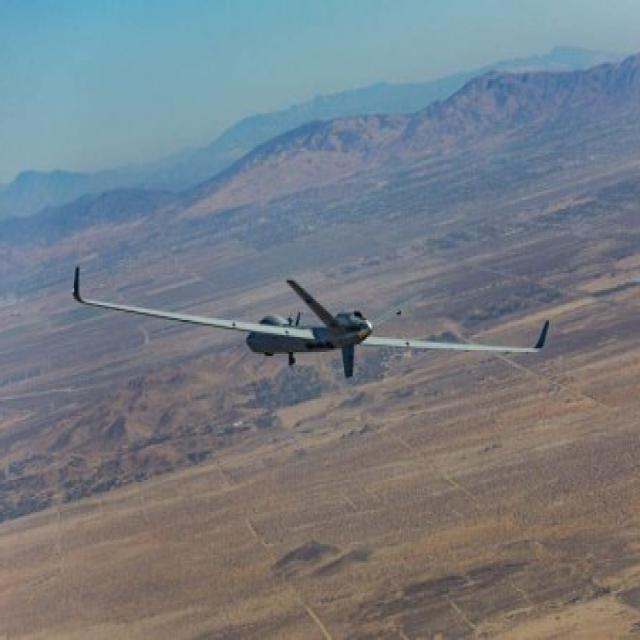iha: (66, 258, 554, 388)
